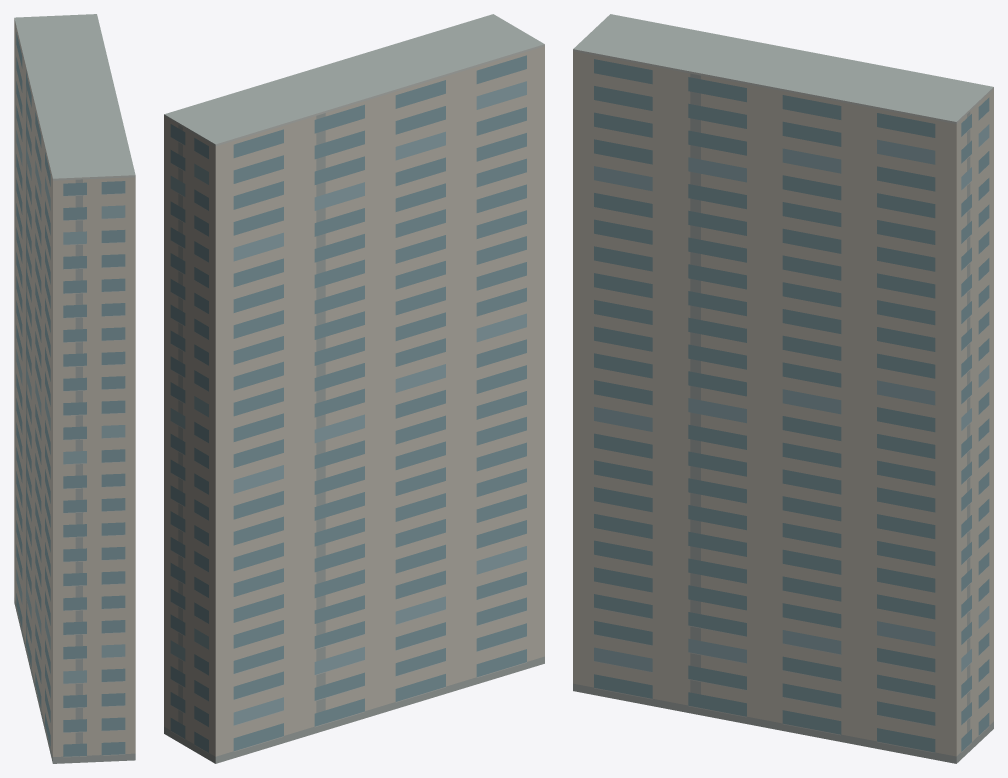
File: residential-c233f8ca-bf9d-4a8e-93a8-eacce061a961.glb
The picture shows the model from 3 angles, left to right: view 1: azimuth 30°, elevation 25°; view 2: azimuth 150°, elevation 25°; view 3: azimuth 270°, elevation 25°; orthographic projection. The views are drawn at different scales.
Parts seen in each view (by area): view 1: residential-c233f8ca-bf9d-4a8e-93a8-eacce061a961.tmp; view 2: residential-c233f8ca-bf9d-4a8e-93a8-eacce061a961.tmp; view 3: residential-c233f8ca-bf9d-4a8e-93a8-eacce061a961.tmp.
Boxes of the visible parts, left/top/right/bottom form: residential-c233f8ca-bf9d-4a8e-93a8-eacce061a961.tmp: left=14, top=14, right=135, bottom=763; residential-c233f8ca-bf9d-4a8e-93a8-eacce061a961.tmp: left=164, top=14, right=544, bottom=763; residential-c233f8ca-bf9d-4a8e-93a8-eacce061a961.tmp: left=573, top=14, right=993, bottom=763.
Size of the model in its own units: 26.43 by 73.2 by 43.5.
